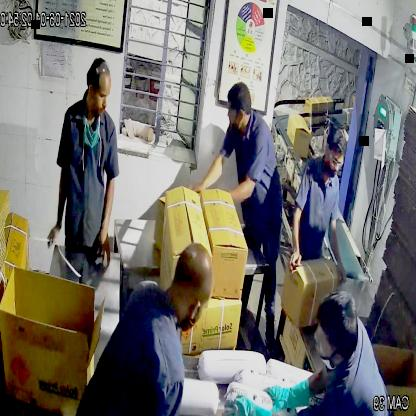goggles: (321, 149, 351, 173)
no_goggles: (80, 80, 118, 108)
